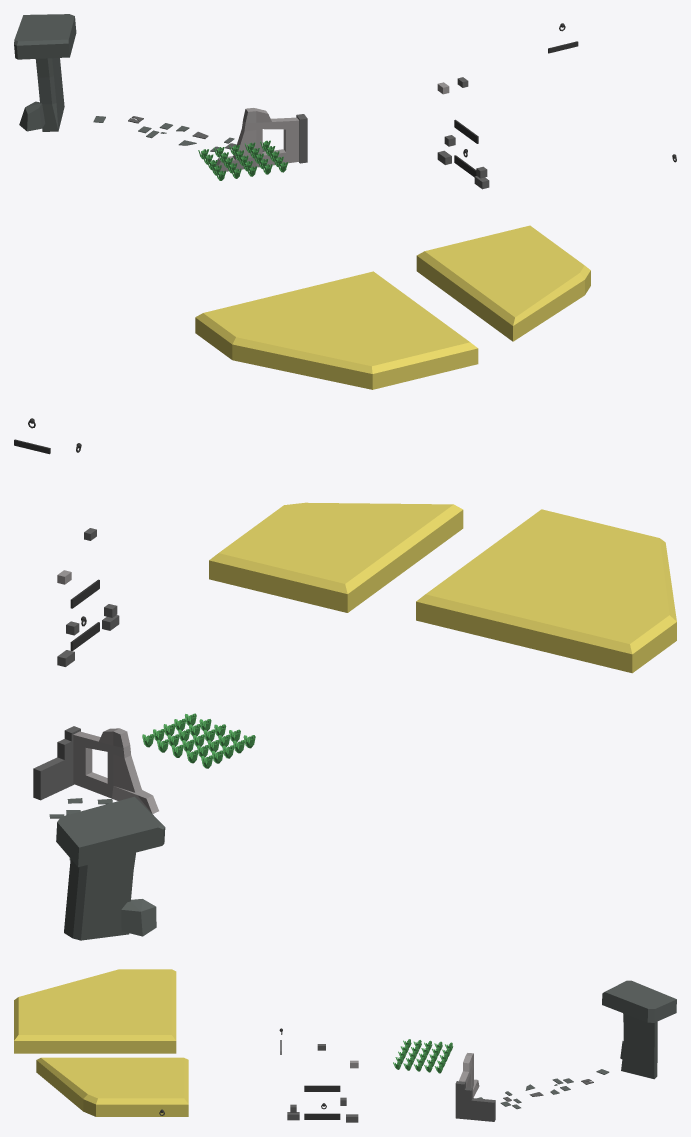
File: SM_01 no collision One House.fbx
3 renders of one model, top to bottom at view 1: azimuth 30°, elevation 25°; view 2: azimuth 150°, elevation 25°; view 3: azimuth 270°, elevation 25°, orthographic. The views are drawn at different scales.
Visible parts, largest first — view 1: Wheat.001, Wheat.004, Cube.072, Derelict.002, Plane.001, STREET_stones.003, Cube.077; view 2: Wheat.001, Wheat.004, Cube.072, Derelict.002, Plane.001, Derelict.001, Cube.077; view 3: Wheat.001, Wheat.004, Cube.072, Derelict.001, Plane.001, STREET_stones.003, Cube.085, Derelict.002.
Boxes of the visible parts, x1,y1,x2,y2 form: Wheat.001: [195, 271, 478, 389]; Wheat.004: [416, 225, 590, 341]; Cube.072: [14, 14, 76, 131]; Derelict.002: [213, 108, 299, 171]; Plane.001: [198, 140, 288, 180]; STREET_stones.003: [93, 116, 267, 151]; Cube.077: [19, 101, 45, 131]; Wheat.001: [416, 509, 676, 673]; Wheat.004: [209, 502, 463, 612]; Cube.072: [56, 796, 165, 940]; Derelict.002: [73, 728, 158, 813]; Plane.001: [142, 713, 255, 768]; Derelict.001: [33, 726, 80, 800]; Cube.077: [121, 899, 156, 936]; Wheat.001: [14, 969, 176, 1053]; Wheat.004: [36, 1057, 188, 1116]; Cube.072: [602, 980, 676, 1079]; Derelict.001: [455, 1081, 495, 1121]; Plane.001: [393, 1039, 453, 1073]; STREET_stones.003: [477, 1069, 609, 1109]; Cube.085: [304, 1085, 340, 1119]; Derelict.002: [459, 1053, 479, 1097].
Bounding box in the file's own units: 2068 × 820 × 3180.
